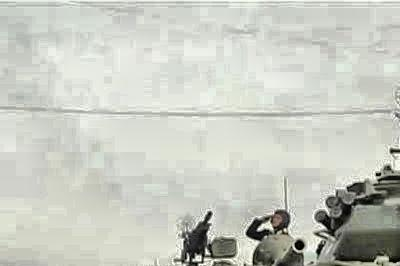tanks: (310, 168, 400, 266), (213, 260, 234, 266), (190, 264, 205, 266)
